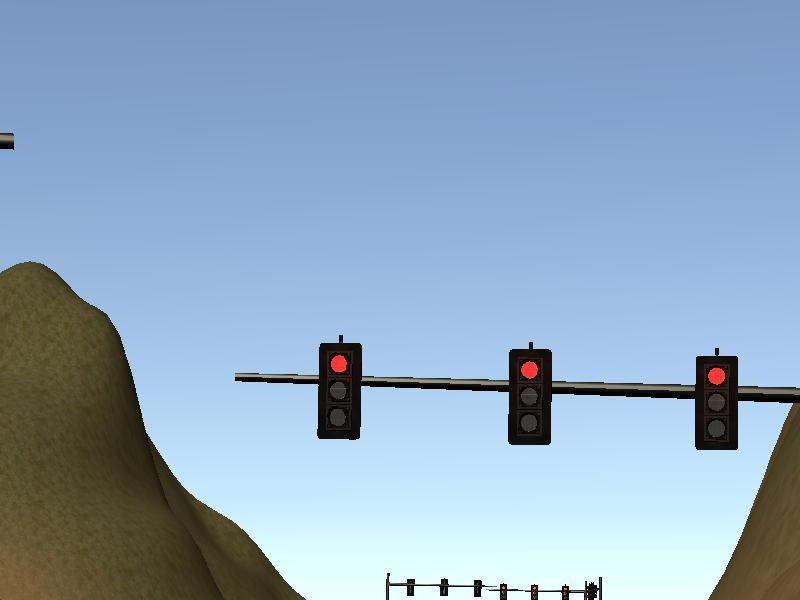RED: (319, 340, 360, 438), (508, 350, 549, 448), (696, 355, 737, 453)
